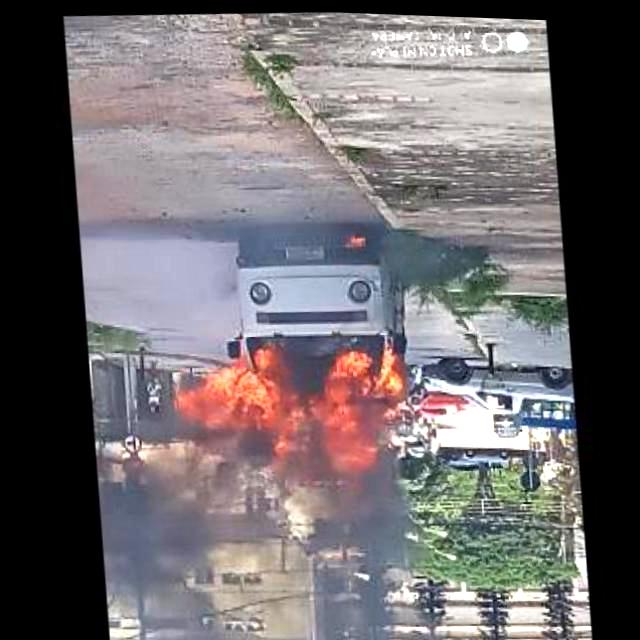fire: (89, 388, 279, 632), (308, 448, 424, 602), (172, 348, 308, 474), (305, 340, 409, 466), (342, 232, 362, 248)
